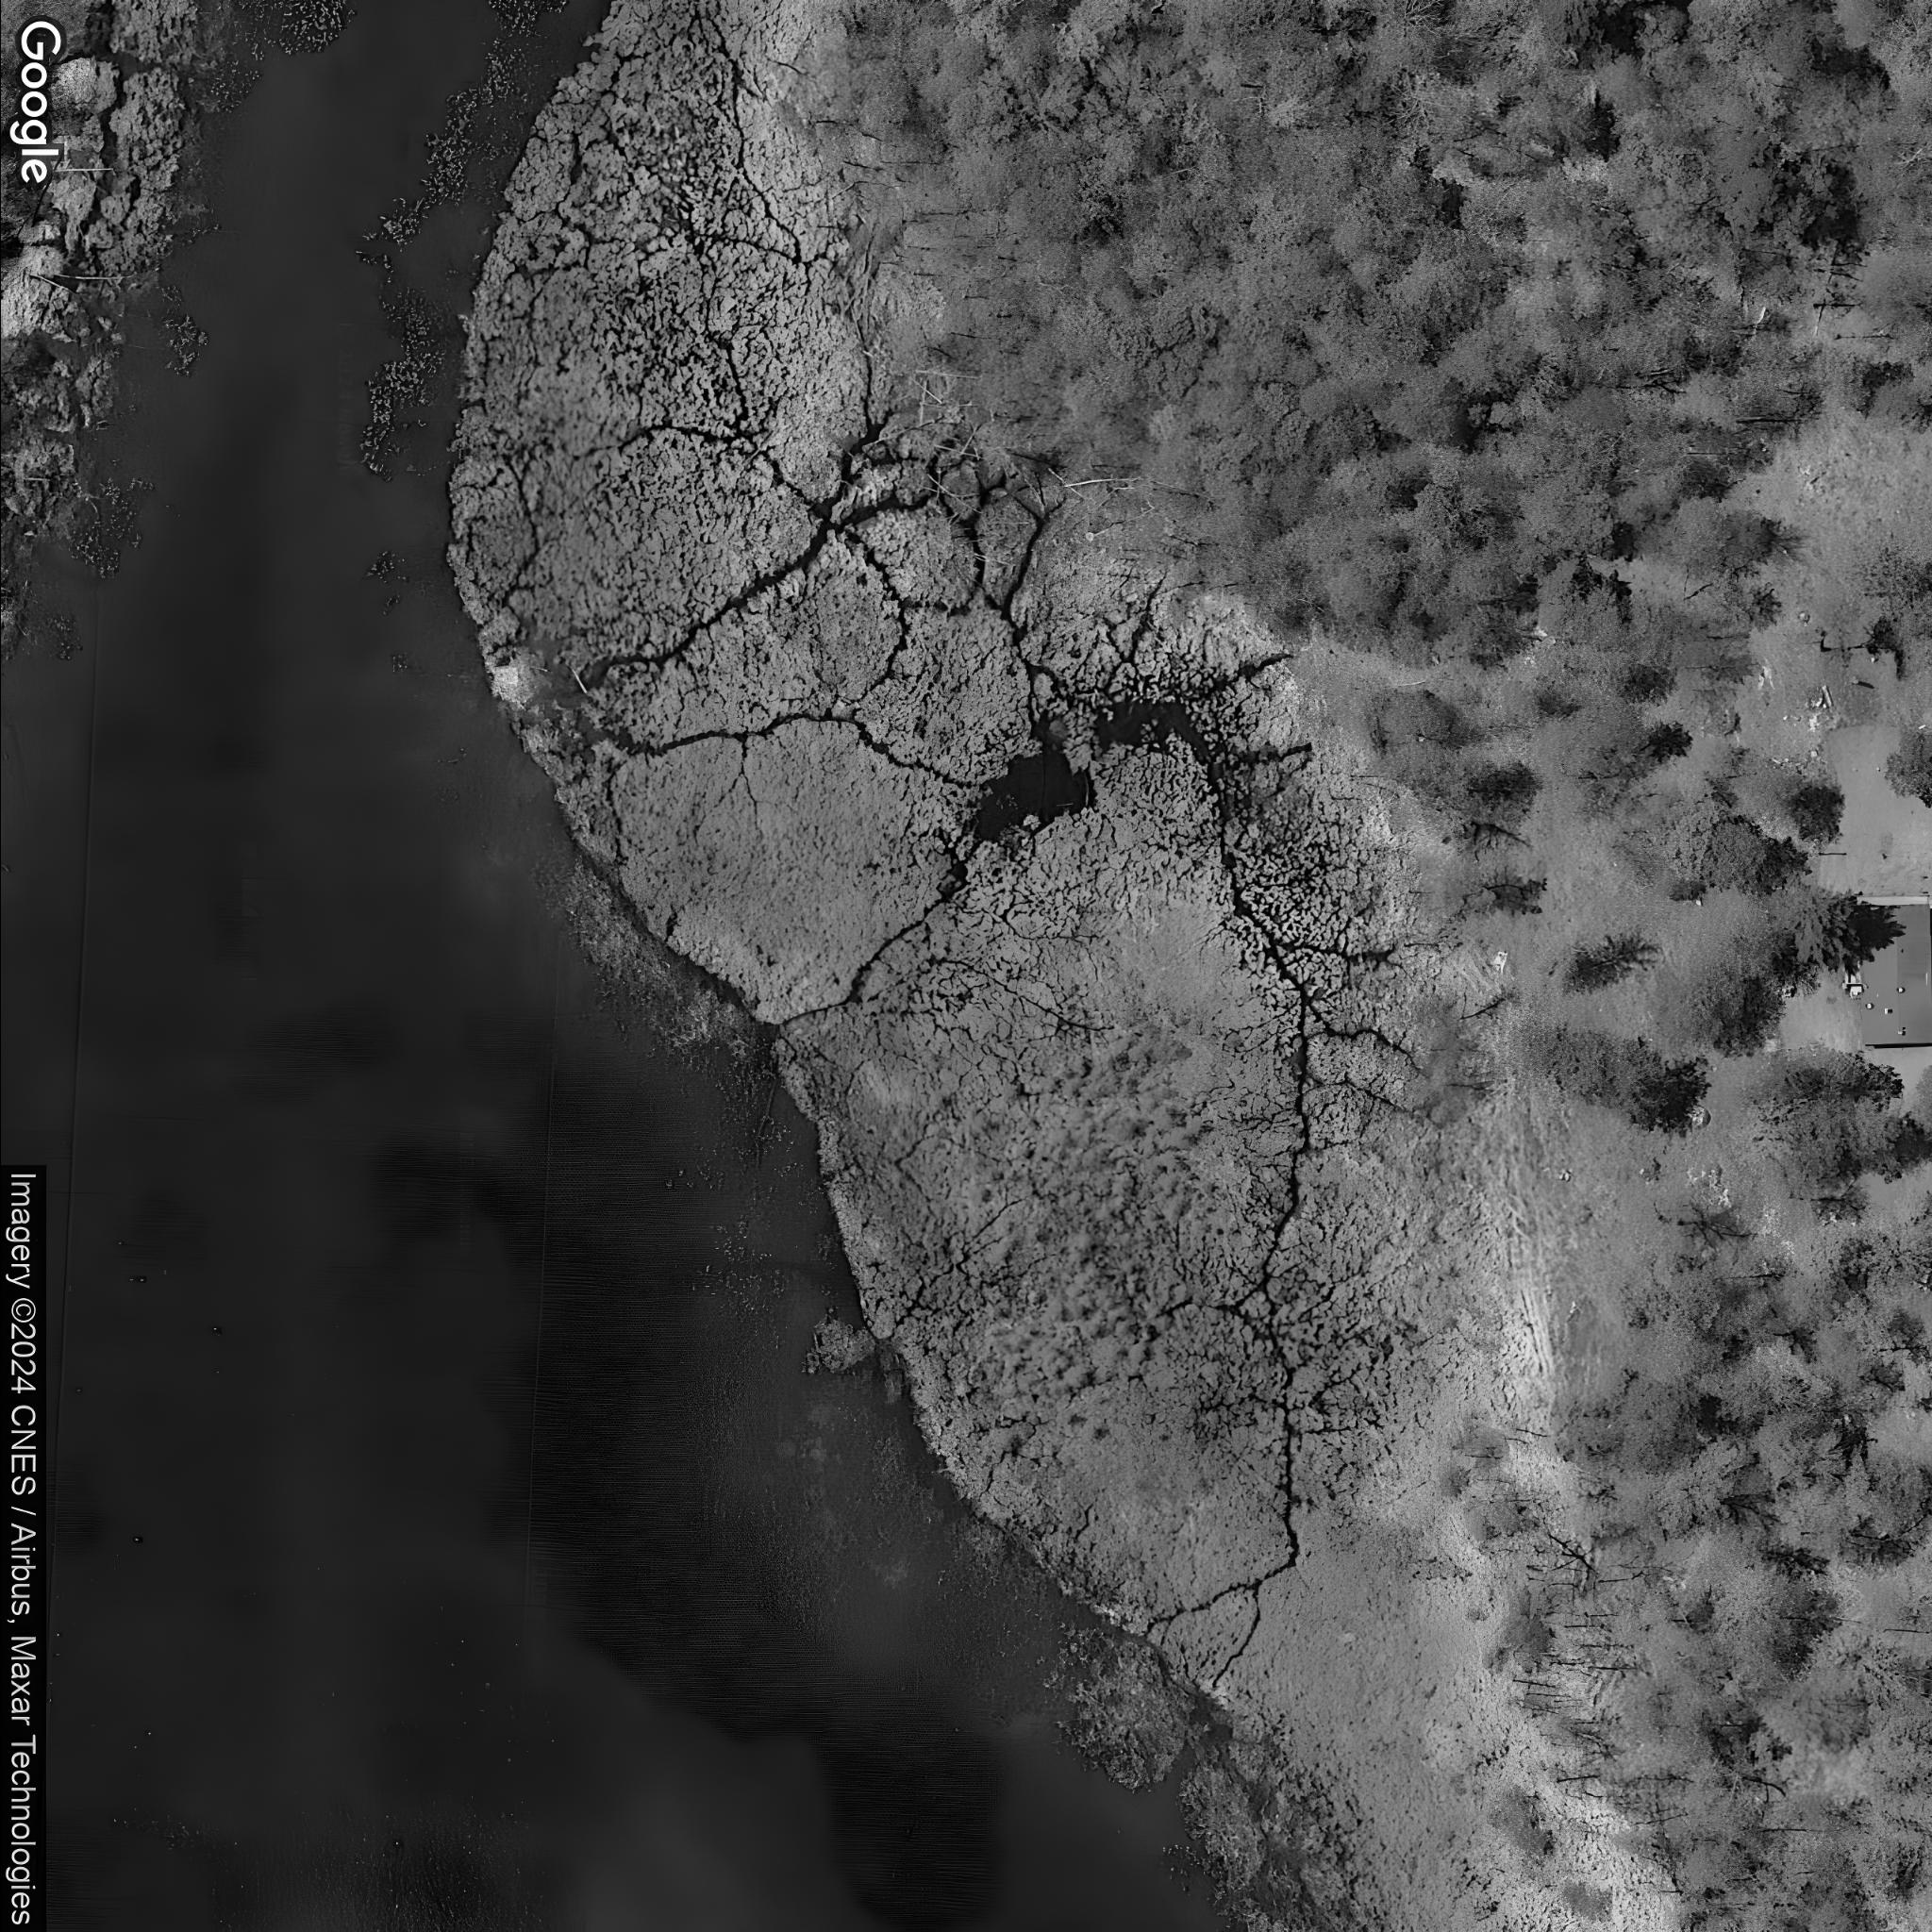House: (1854, 904, 1932, 1047)
